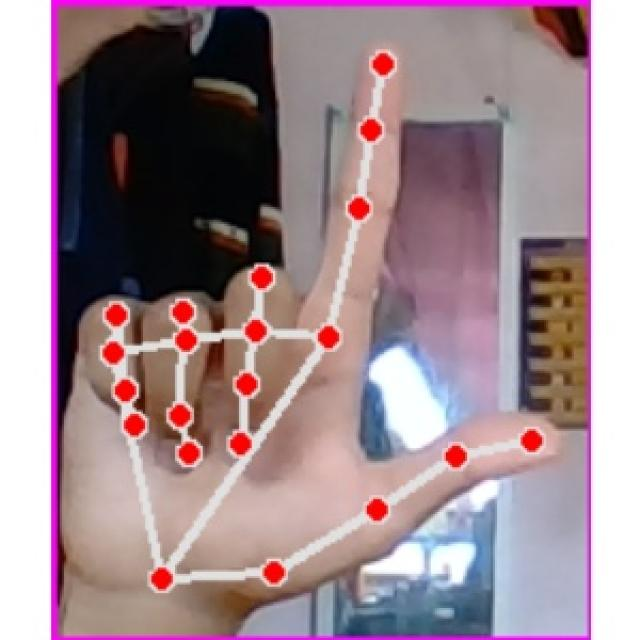L: (66, 32, 570, 617)
